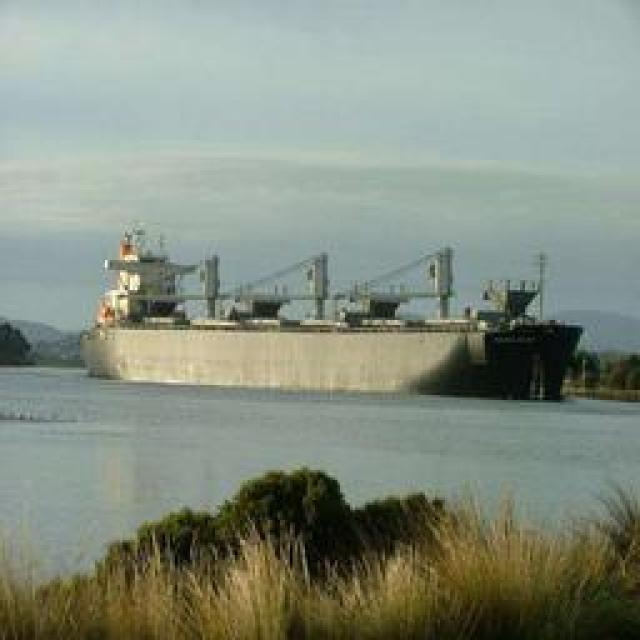CIV_Ship: (74, 228, 508, 390)
